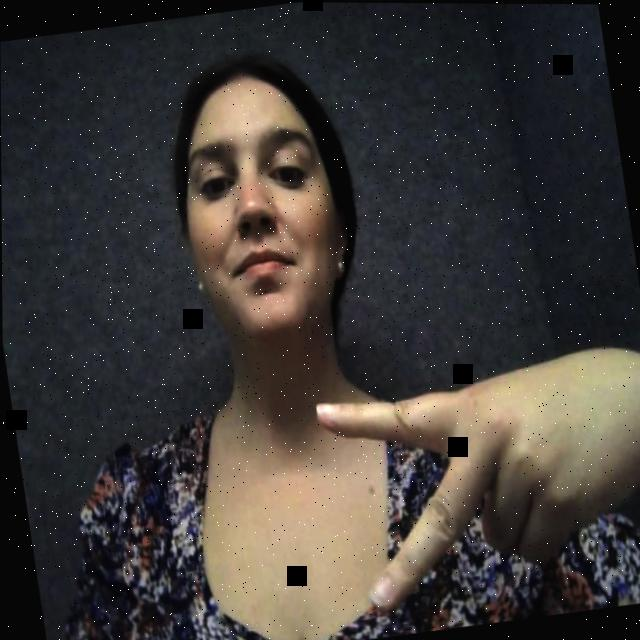Scissors: (305, 323, 640, 616)
